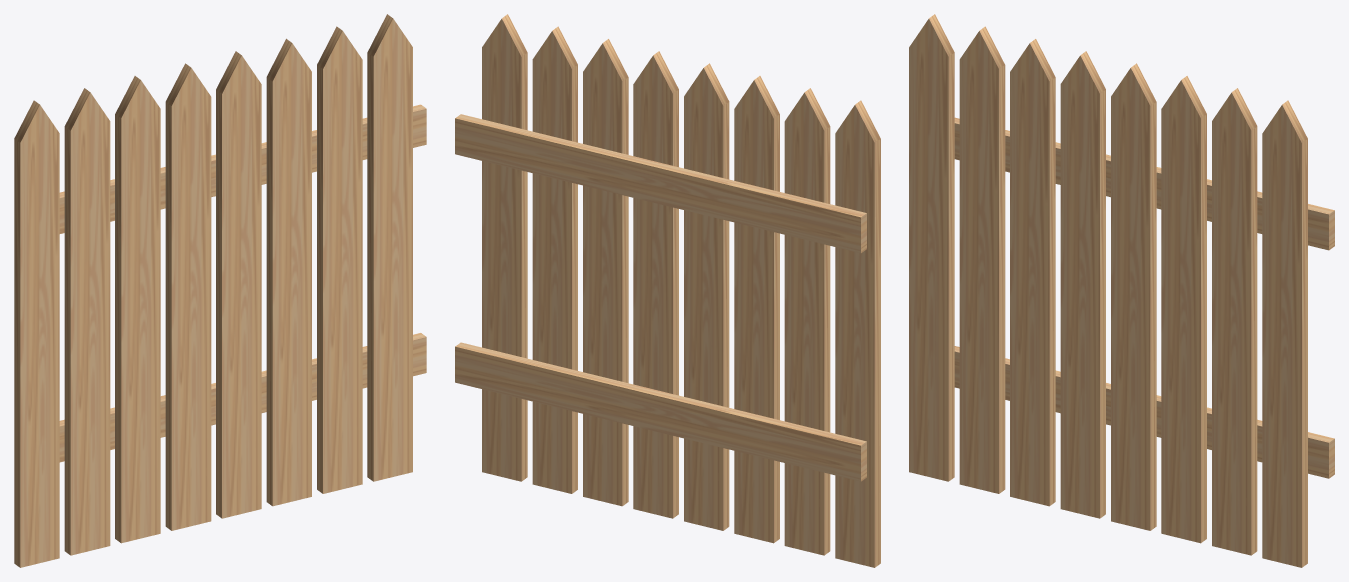
File: PicketFence_2.fbx
3 renders of one model, left to right at view 1: azimuth 30°, elevation 25°; view 2: azimuth 150°, elevation 25°; view 3: azimuth 330°, elevation 25°, orthographic.
Visible parts, largest first — view 1: polySurface16; view 2: polySurface16; view 3: polySurface16.
Boxes of the visible parts, left/top/right/bottom form: polySurface16: left=14, top=14, right=426, bottom=567; polySurface16: left=455, top=14, right=880, bottom=567; polySurface16: left=909, top=14, right=1334, bottom=567.
Bounding box in the file's own units: 1.23 × 1.3 × 0.0645.
